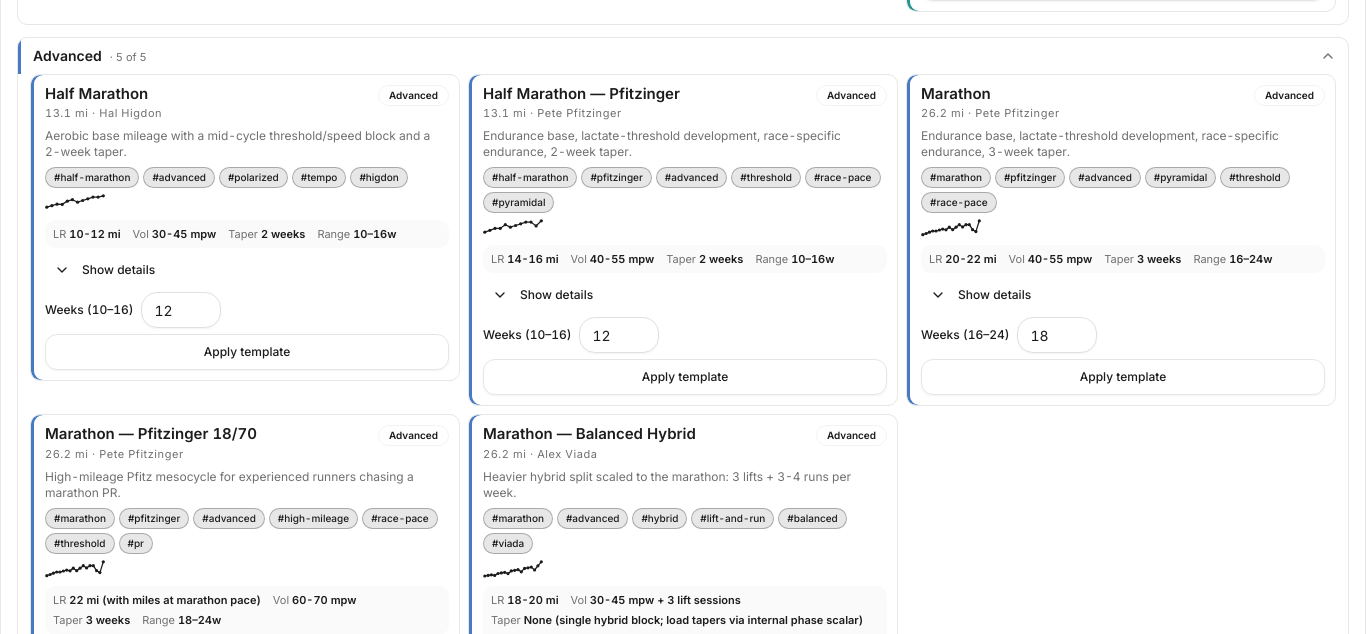
Scenario: Planner Apply Template race-date overrun warning › shows the race-date preview and overrun warning when the staged template would push the marathon date forward
(page scrolled)
Click the button with test id "planner-template-apply-marathon".
click(1123, 377)  # box [921,359,1325,395]
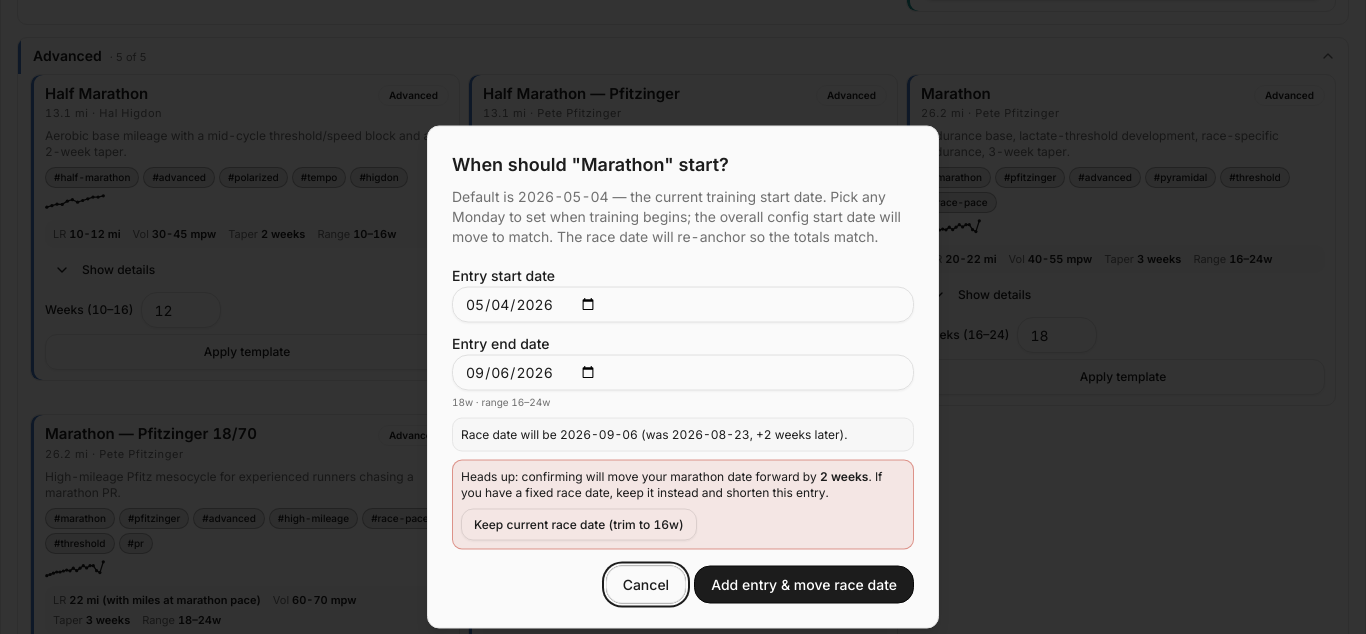
Check: the element with test id "planner-pending-apply-race-preview" shows "2026-09-06", box [560,426,638,442]
Check: the element with test id "planner-pending-apply-race-preview" shows "was", box [641,426,669,442]
Check: the element with test id "planner-pending-apply-race-preview" shows "2026-08-23", box [672,426,750,442]
